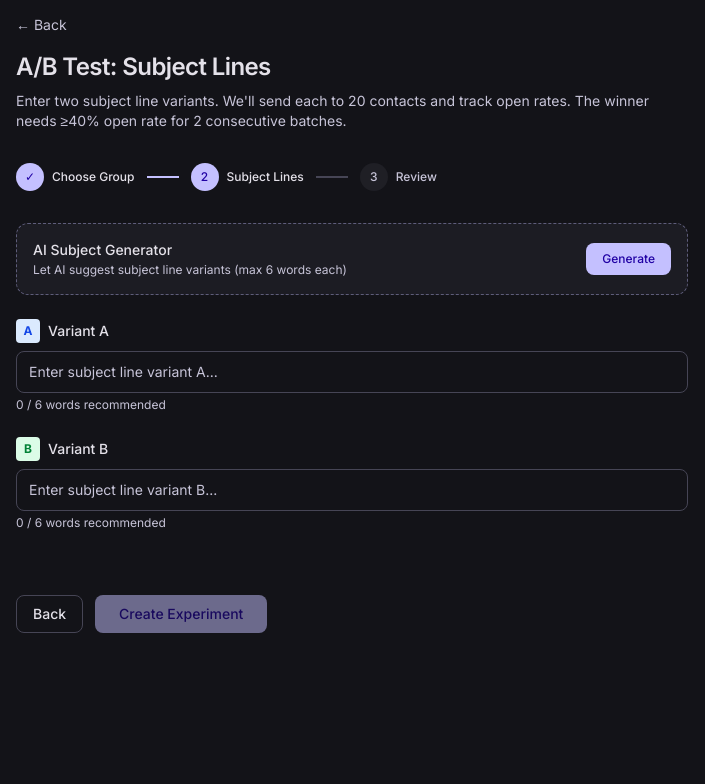
Scenario: ABTestSubjectPage › falls back to line parsing when suggestion json is invalid
Click the button "Generate": point(629, 259) top-left (586, 243), bottom-right (671, 275)
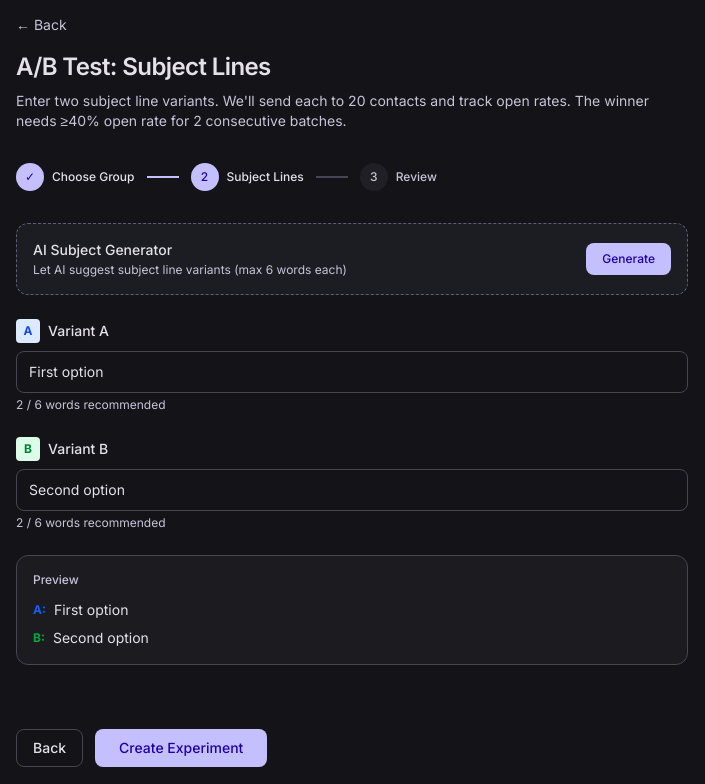
Now the field showing "First option" below "Variant A" is shown, box top-left (16, 351), bottom-right (688, 393)
Now the field showing "Second option" below "Variant B" is shown, box top-left (16, 469), bottom-right (688, 511)
Now the text "Preview" is shown, box top-left (33, 572), bottom-right (79, 587)
